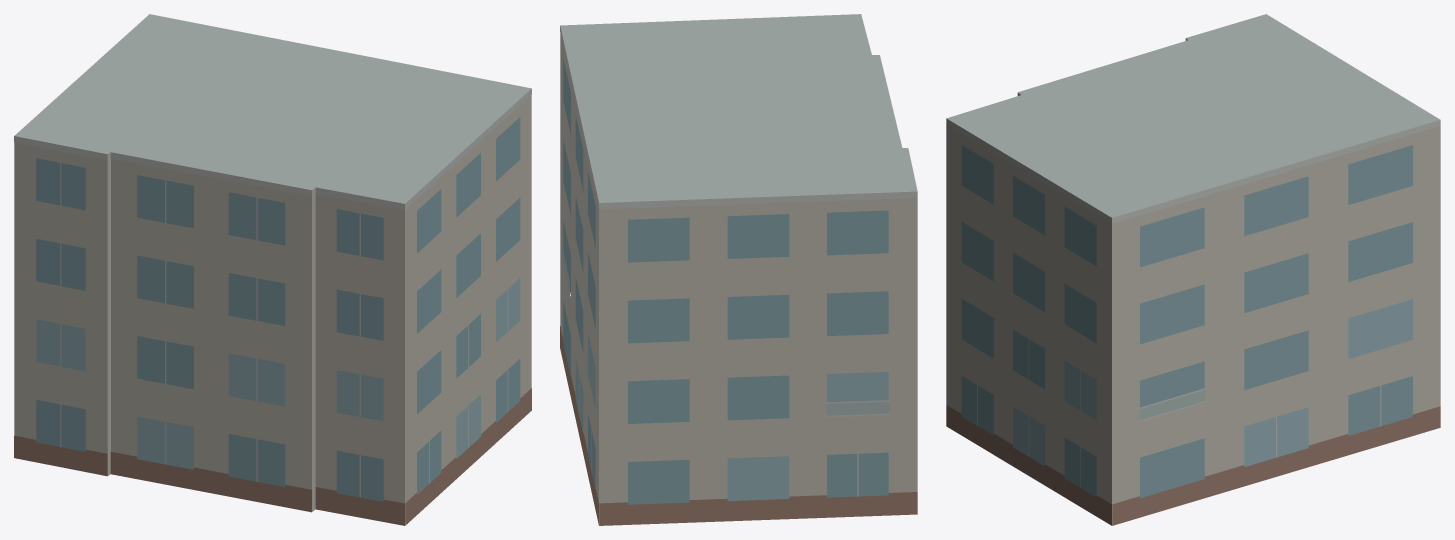
File: survey-upis-32923511.glb
The picture shows the model from 3 angles, left to right: view 1: azimuth 30°, elevation 25°; view 2: azimuth 150°, elevation 25°; view 3: azimuth 270°, elevation 25°; orthographic projection. The views are drawn at different scales.
Visible parts, largest first — view 1: survey-upis-32923511.tmp; view 2: survey-upis-32923511.tmp; view 3: survey-upis-32923511.tmp.
Boxes of the visible parts, <box> form: survey-upis-32923511.tmp: <box>14,14,531,525</box>; survey-upis-32923511.tmp: <box>560,14,917,525</box>; survey-upis-32923511.tmp: <box>946,14,1440,525</box>.
Bounding box in the file's own units: 17.62 × 12.4 × 18.05.
